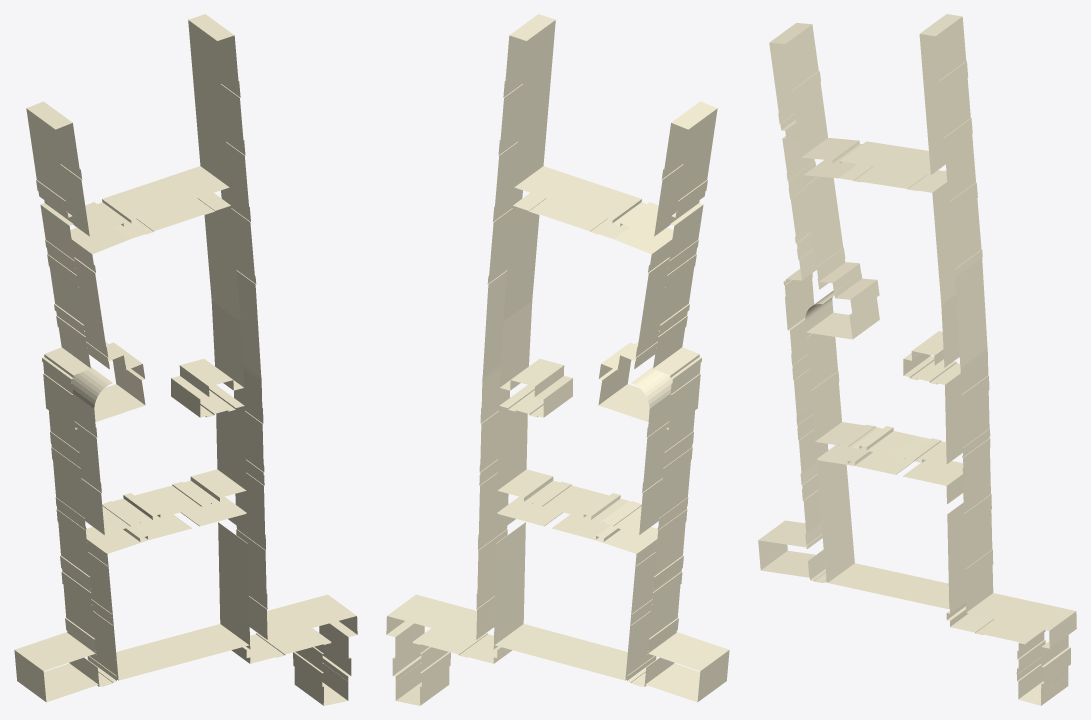
File: Contours3_v3_wall.dae
3 views of the same model, side by side, from view 1: azimuth 30°, elevation 25°; view 2: azimuth 150°, elevation 25°; view 3: azimuth 330°, elevation 25° (orthographic). The views are drawn at different scales.
Visible parts, largest first — view 1: node; view 2: node; view 3: node.
Boxes of the visible parts, box(x1,y1,x2,y2) form: node: box(14, 14, 357, 705); node: box(386, 14, 729, 705); node: box(758, 14, 1076, 705).
Bounding box in the file's own units: 37.17 × 78.45 × 6.
1 material, 1 textured.
